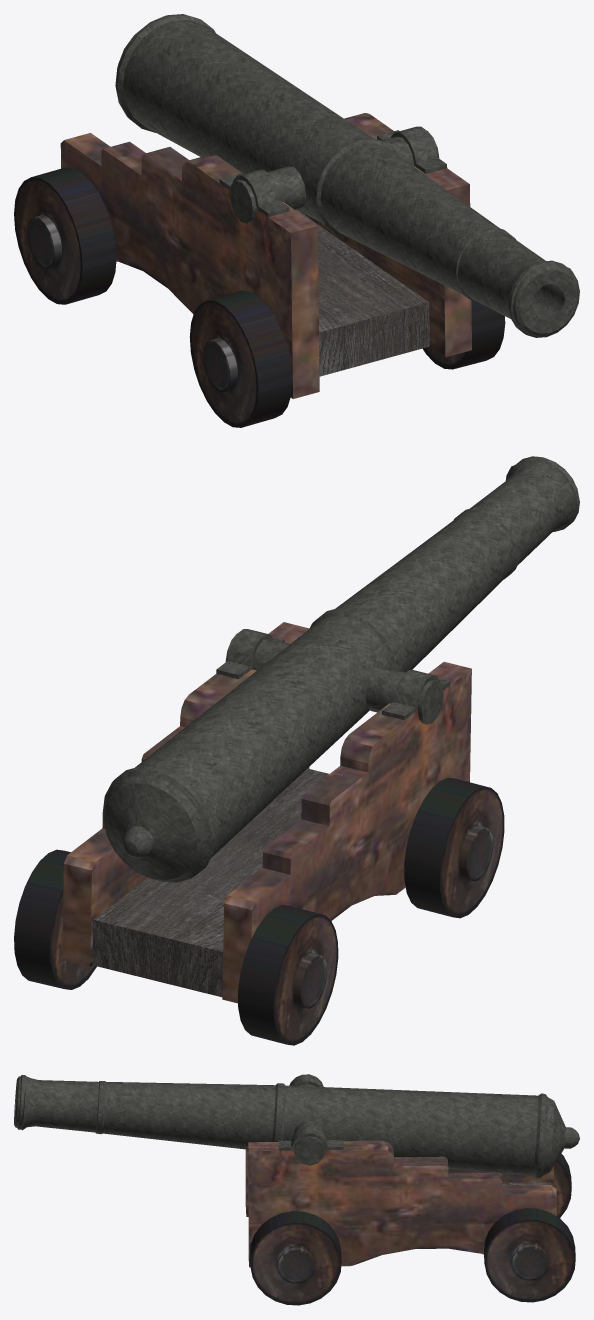
The model's file is cannon black pearl.dae.
3 views of the same model, one above another, from view 1: azimuth 30°, elevation 25°; view 2: azimuth 150°, elevation 25°; view 3: azimuth 270°, elevation 25° (orthographic). The views are drawn at different scales.
Parts seen in each view (by area): view 1: SketchUp (×12); view 2: SketchUp (×11); view 3: SketchUp (×10).
Boxes of the visible parts, x1,y1,x2,y2 form: SketchUp (×12): [14, 14, 579, 427]; SketchUp (×11): [14, 456, 579, 1045]; SketchUp (×10): [14, 1074, 579, 1305].
Bounding box in the file's own units: 27.9 × 72.15 × 26.58.
4 materials, 3 textured.
